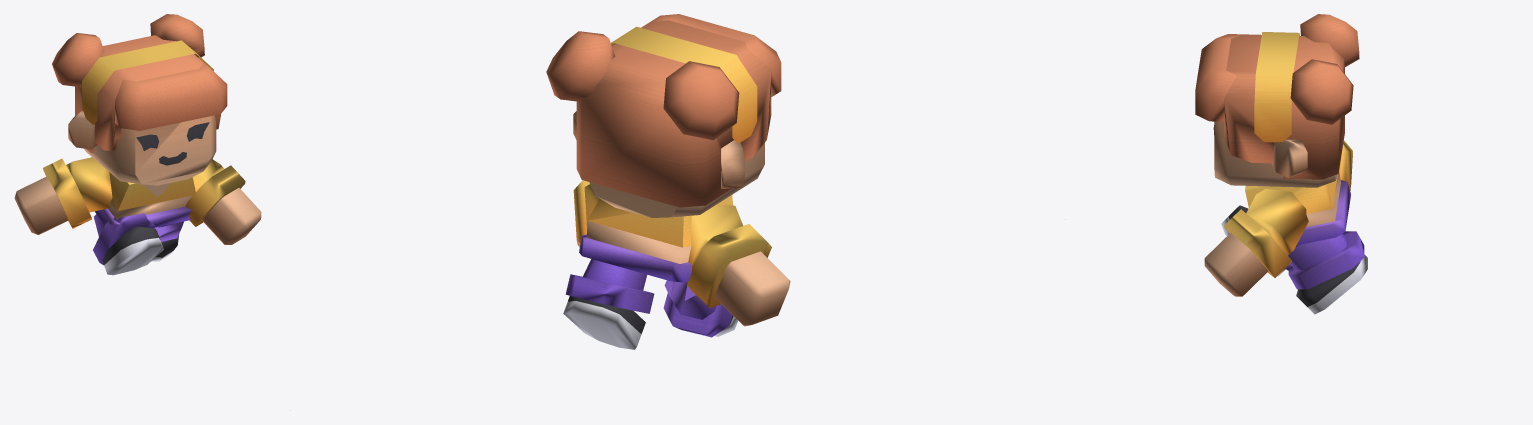
Rendered from crowdB_sprint_7.glb.
3 views of the same model, side by side, from view 1: azimuth 30°, elevation 25°; view 2: azimuth 150°, elevation 25°; view 3: azimuth 270°, elevation 25° (orthographic). The views are drawn at different scales.
Parts seen in each view (by area): view 1: crowdB-sprint-7; view 2: crowdB-sprint-7; view 3: crowdB-sprint-7.
Part boxes in pixels (x1,y1,x2,y2): crowdB-sprint-7: (14, 14, 261, 275); crowdB-sprint-7: (546, 14, 790, 349); crowdB-sprint-7: (1195, 14, 1367, 314).
Bounding box in the file's own units: 1.2 × 0.8058 × 1.2.
1 material, 1 textured.
